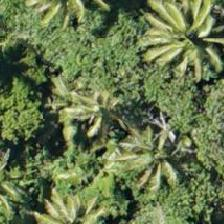coconut_tree: (110, 106, 200, 196), (130, 0, 220, 83), (0, 139, 51, 223)
